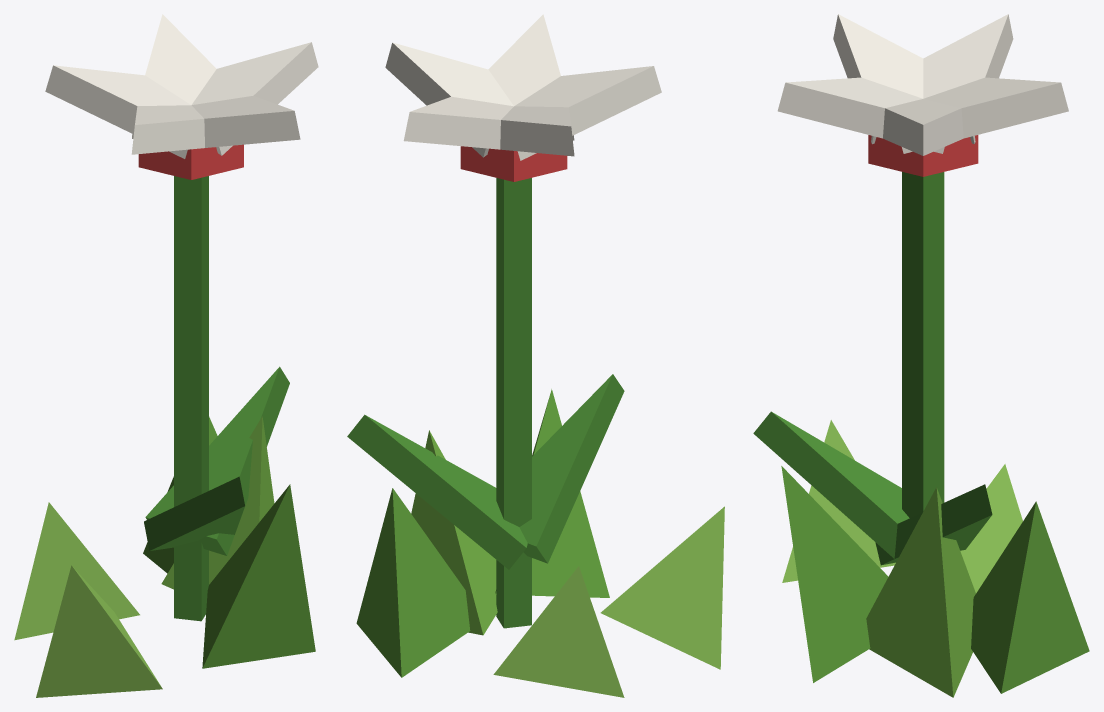
The model's file is flower_redC.glb.
3 views of the same model, side by side, from view 1: azimuth 30°, elevation 25°; view 2: azimuth 150°, elevation 25°; view 3: azimuth 270°, elevation 25° (orthographic). The views are drawn at different scales.
Parts seen in each view (by area): view 1: flower_redC; view 2: flower_redC; view 3: flower_redC.
Boxes of the visible parts, x1=… form: flower_redC: x1=14, y1=14, x2=318, y2=697; flower_redC: x1=347, y1=14, x2=724, y2=697; flower_redC: x1=753, y1=14, x2=1089, y2=697.
Size of the model in its own units: 0.142 by 0.2458 by 0.1273.
1 material, 1 textured.
